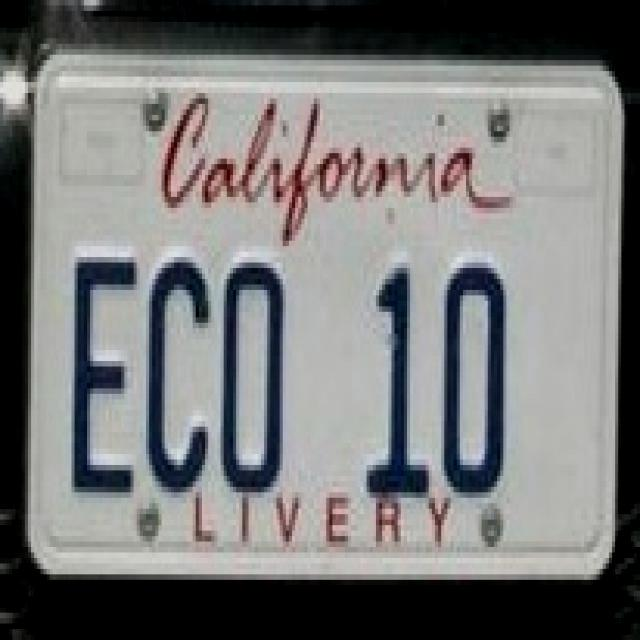licenseplate: (12, 48, 628, 592)
